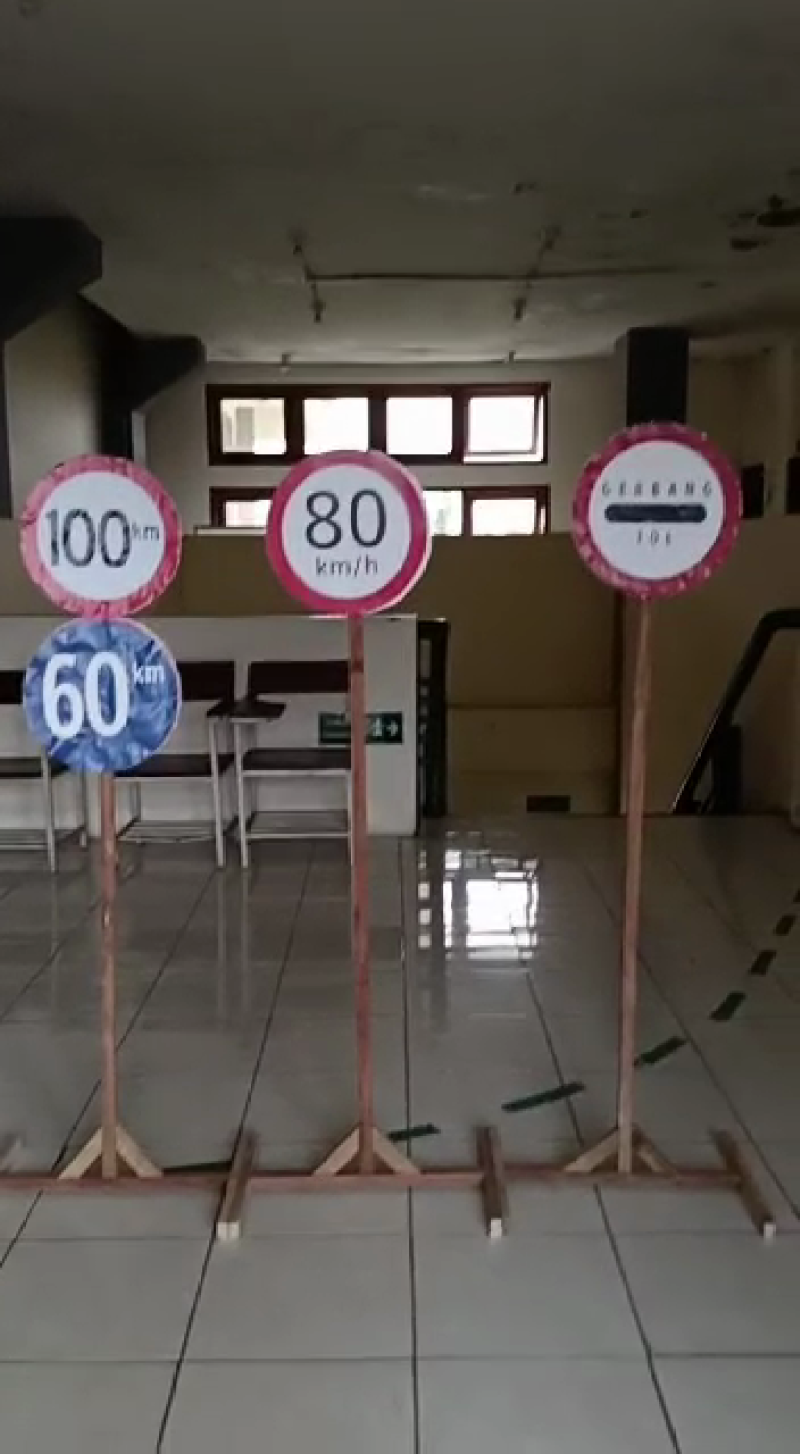batas maksimal 100kmperjam minimal 60kmperjam: (16, 448, 192, 772)
batas maksimal 80kmperjam: (257, 433, 437, 607)
gerbang tol: (566, 420, 750, 605)
